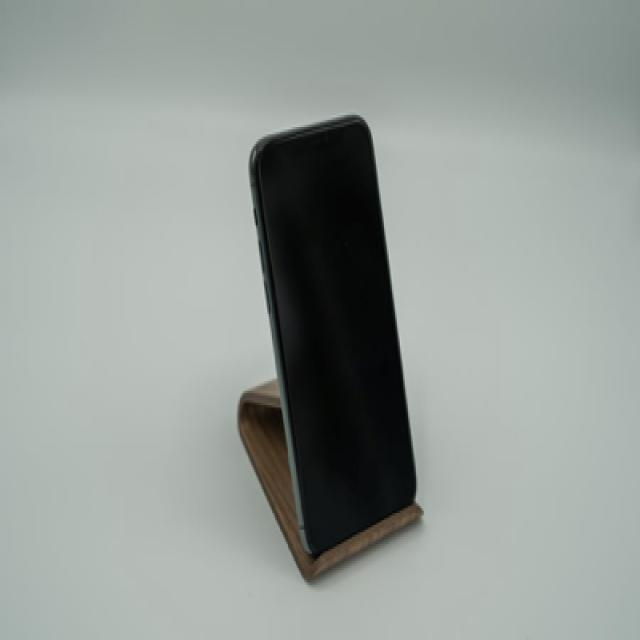cellphone: (247, 112, 422, 558)
